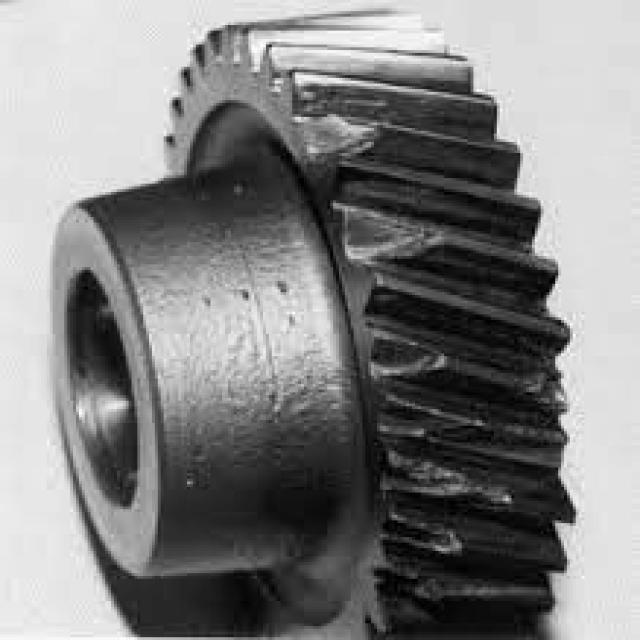Fault-Exist: (306, 31, 598, 629)
